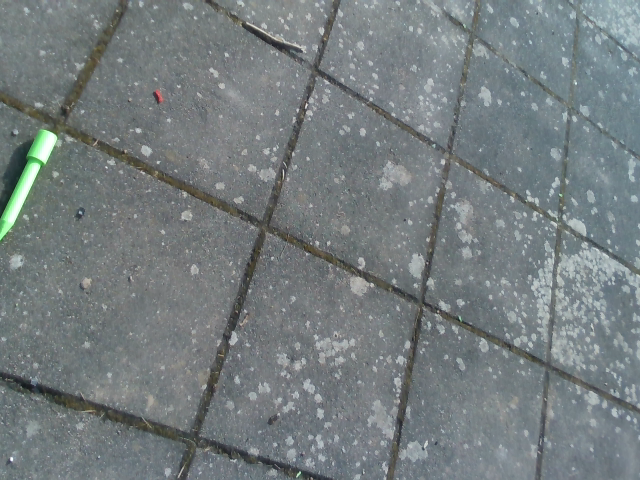Probe: (1, 120, 66, 250)
